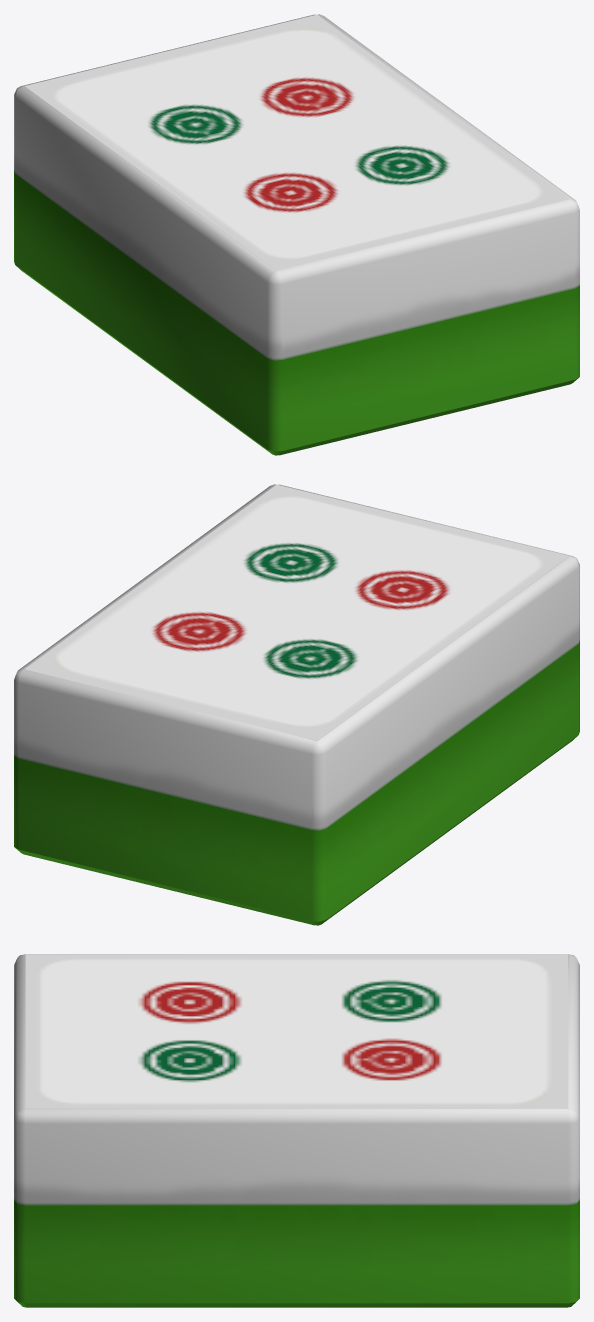
The model's file is mahjong_tile_22.FBX.
3 views of the same model, one above another, from view 1: azimuth 30°, elevation 25°; view 2: azimuth 150°, elevation 25°; view 3: azimuth 270°, elevation 25° (orthographic). The views are drawn at different scales.
Parts seen in each view (by area): view 1: mahjong_tile_22; view 2: mahjong_tile_22; view 3: mahjong_tile_22.
Part boxes in pixels (box(x1,y1,x2,y2)): mahjong_tile_22: box(14, 14, 579, 455); mahjong_tile_22: box(14, 484, 579, 925); mahjong_tile_22: box(14, 954, 579, 1307).
Bounding box in the file's own units: 130 × 73.07 × 190.
